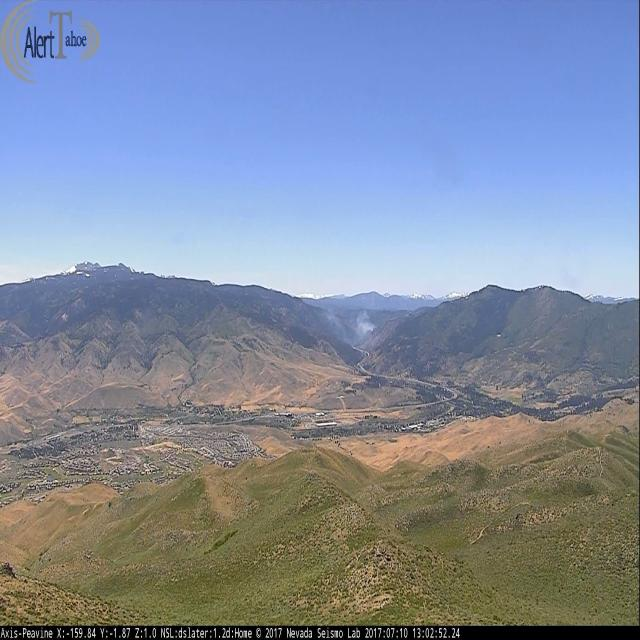smoke: (325, 314, 380, 346)
